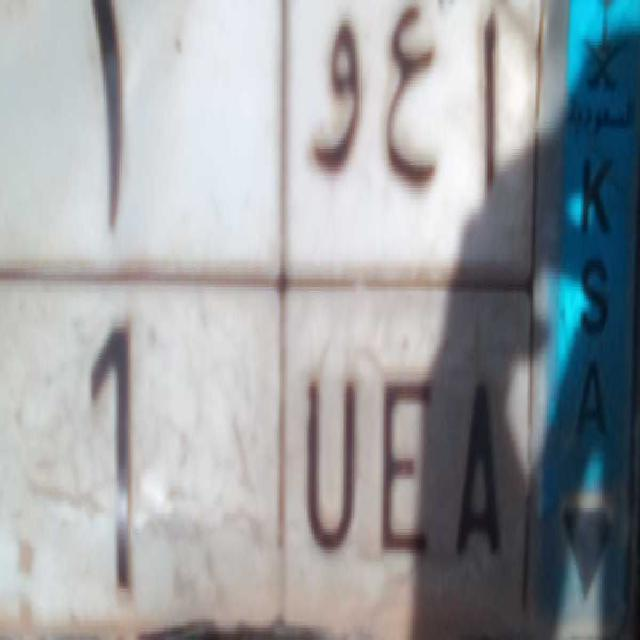license_plate: (0, 260, 533, 639)
